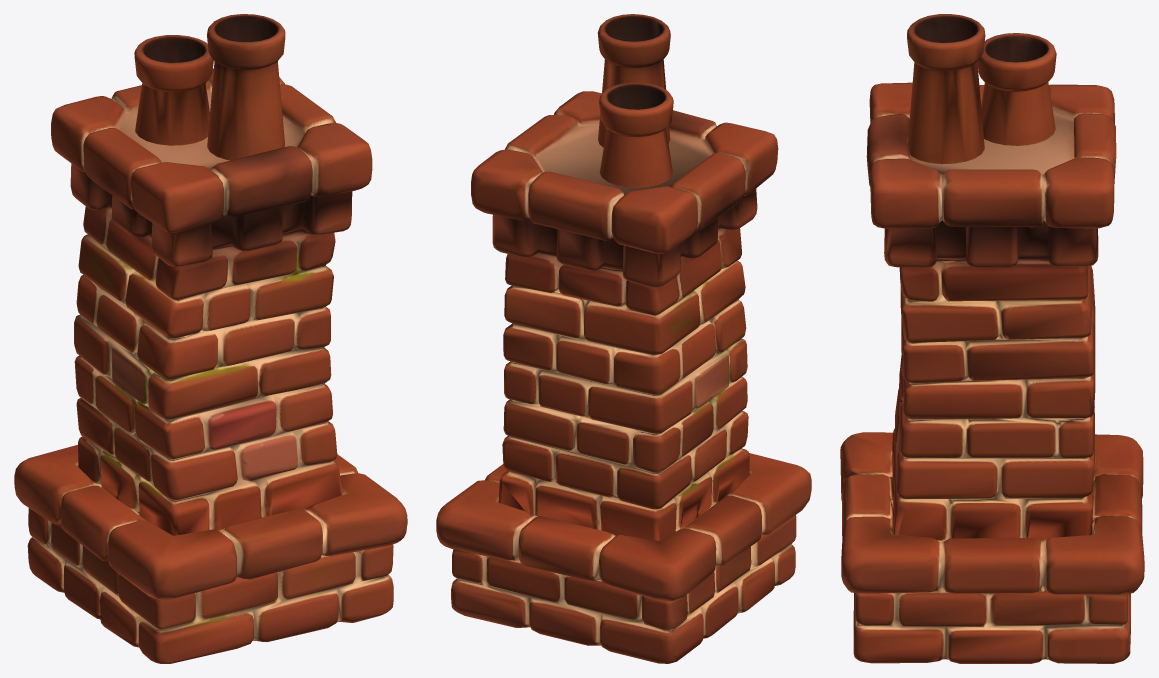
Rendered from boss_chimney.glb.
3 renders of one model, left to right at view 1: azimuth 30°, elevation 25°; view 2: azimuth 150°, elevation 25°; view 3: azimuth 270°, elevation 25°, orthographic. The views are drawn at different scales.
Visible parts, largest first — view 1: boss_chimney; view 2: boss_chimney; view 3: boss_chimney.
Boxes of the visible parts, x1=… form: boss_chimney: x1=14, y1=14, x2=407, y2=663; boss_chimney: x1=436, y1=14, x2=811, y2=663; boss_chimney: x1=840, y1=14, x2=1144, y2=663.
Bounding box in the file's own units: 2.52 × 5.4 × 2.55.
1 material, 1 textured.
